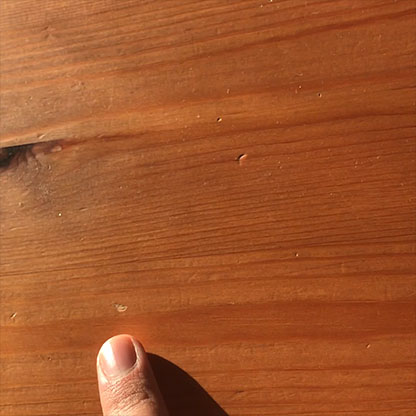fingertip: (87, 324, 149, 387)
